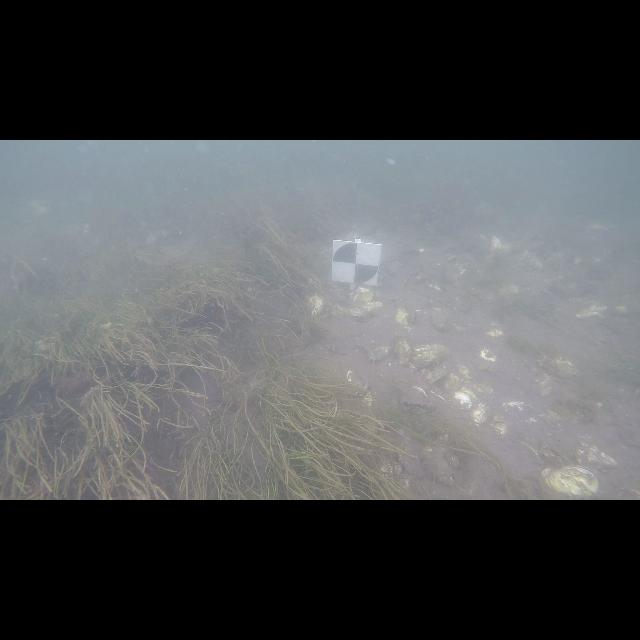Oyster-Closed: (417, 436, 456, 488), (541, 466, 599, 498), (412, 344, 449, 368), (346, 370, 368, 394), (475, 349, 498, 371), (395, 338, 412, 365), (440, 372, 460, 392), (351, 288, 372, 306), (471, 404, 486, 426), (454, 391, 472, 409), (368, 346, 390, 360), (490, 415, 506, 434), (308, 295, 324, 314), (428, 369, 448, 384), (394, 306, 409, 326), (502, 401, 525, 411), (362, 391, 375, 406)
Oyster-Open: (399, 386, 433, 412), (347, 301, 383, 323), (408, 308, 419, 325)
